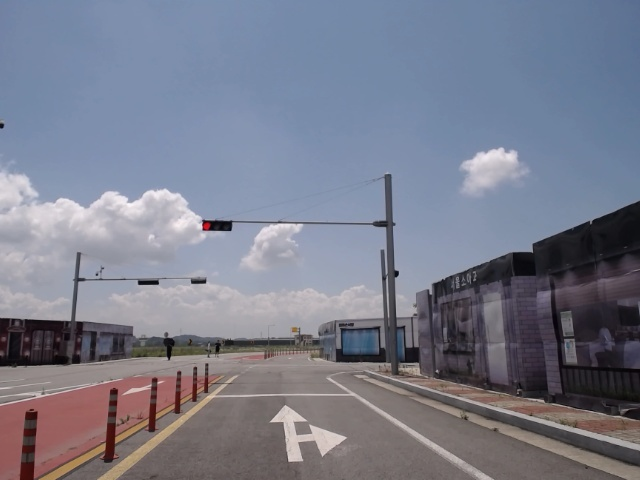red_3: (200, 220, 234, 232)
